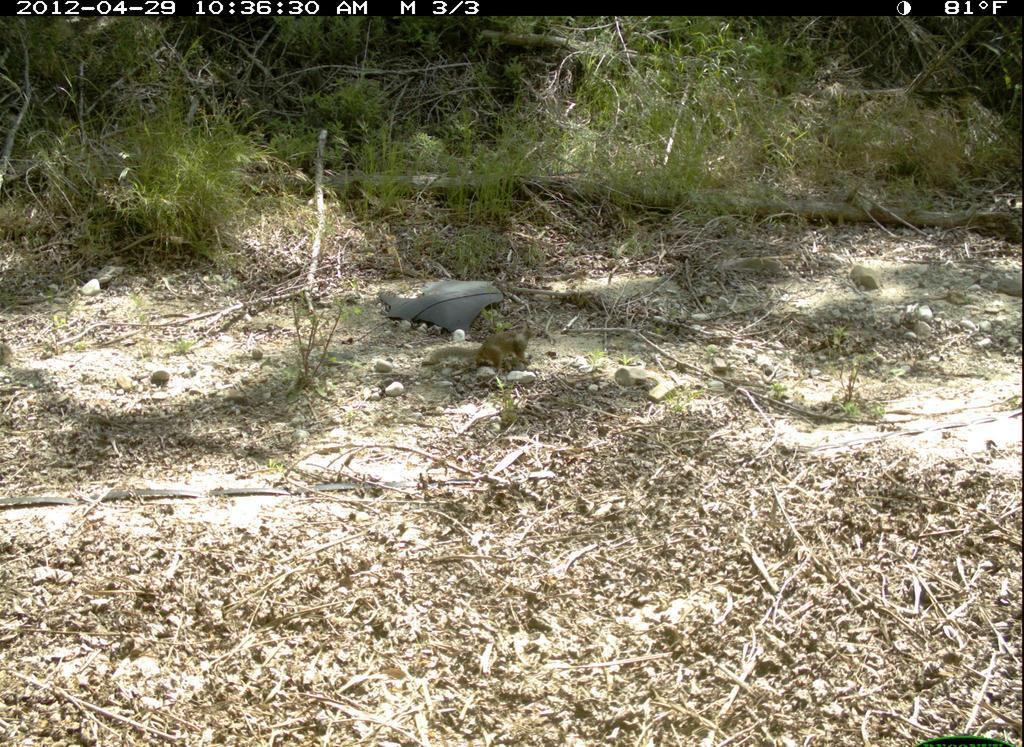squirrel: (425, 317, 546, 377)
